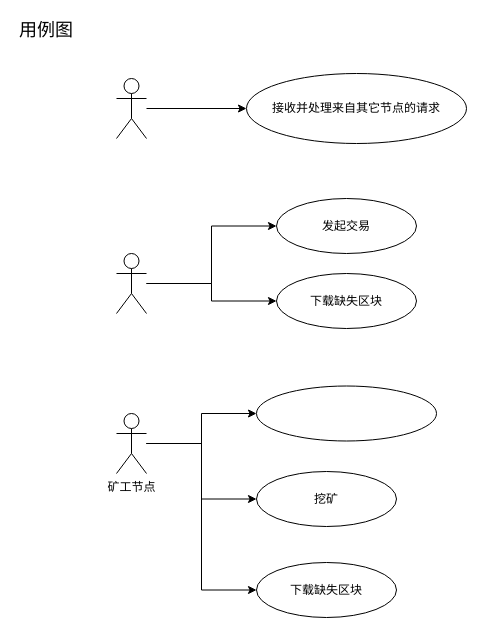
Image size: 484x635. Some labels were removed from this diagram. The centre of each missing label's shape, as x and y in pixels:
中心节点: pixel 131 108
请求并接收交易，校验交易: pixel 346 413
钱包节点: pixel 131 283
